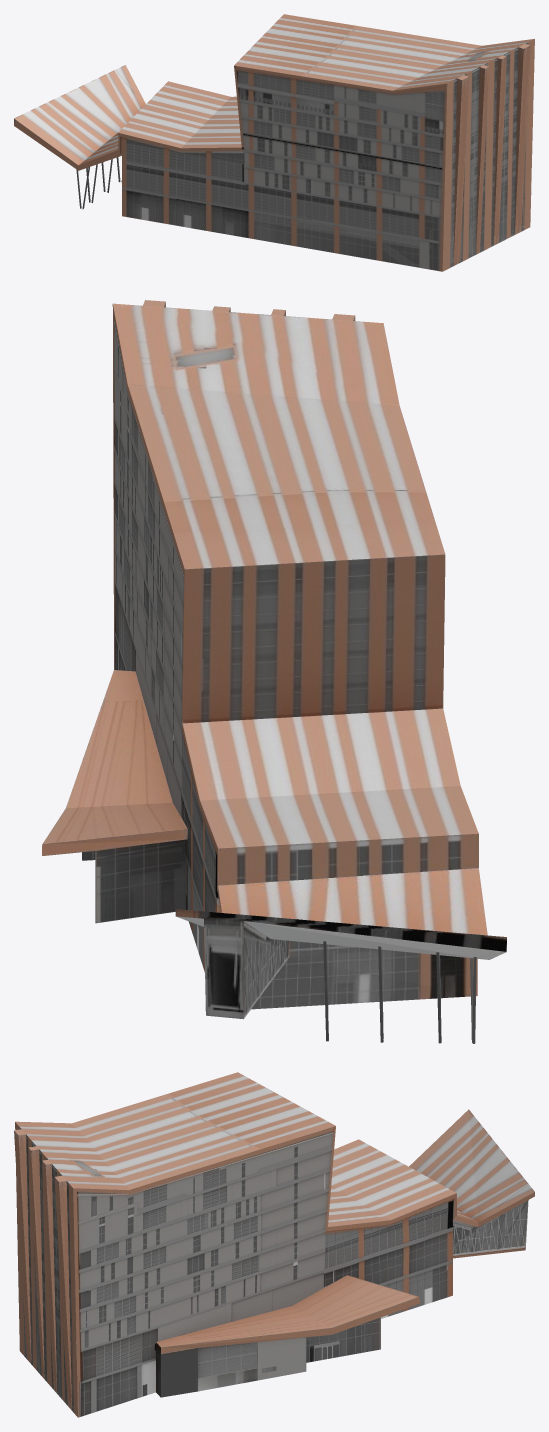
3 renders of one model, top to bottom at view 1: azimuth 30°, elevation 25°; view 2: azimuth 150°, elevation 25°; view 3: azimuth 270°, elevation 25°, orthographic. The views are drawn at different scales.
Visible parts, largest first — view 1: A; view 2: A; view 3: A.
Boxes of the visible parts, x1,y1,x2,y2 form: A: (14, 14, 534, 271); A: (42, 300, 506, 1043); A: (14, 1072, 534, 1417).
Bounding box in the file's own units: 81.31 × 41.73 × 83.63.
Materials: 1 (1 with a texture image).
